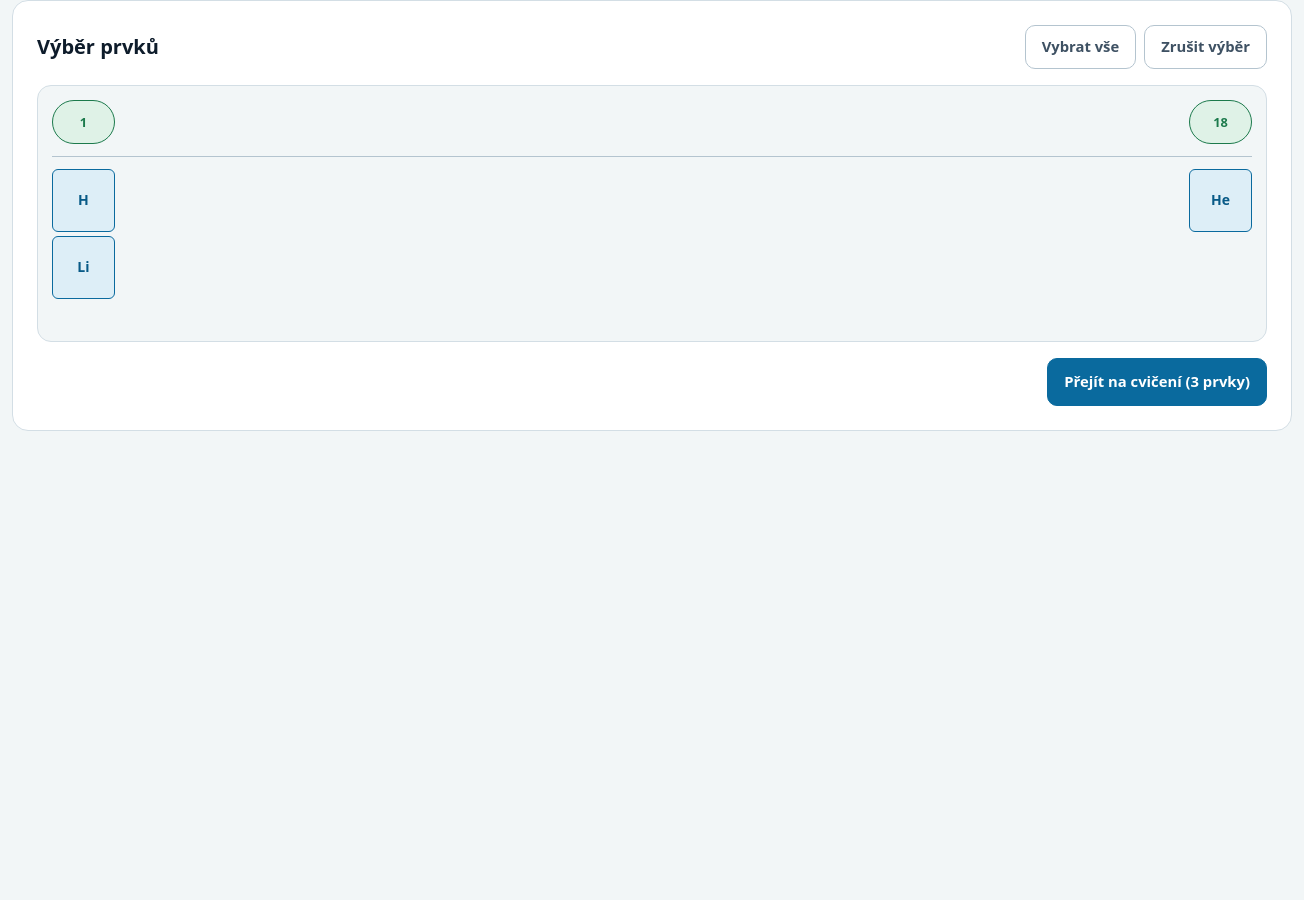
PeriodicTableNamePractice exercise › fills a correct symbol green, clears and refocuses the input, and moves on
Click the button "Přejít na cvičení (3 prvky)" at (1157, 382), box [1047, 358, 1267, 406]
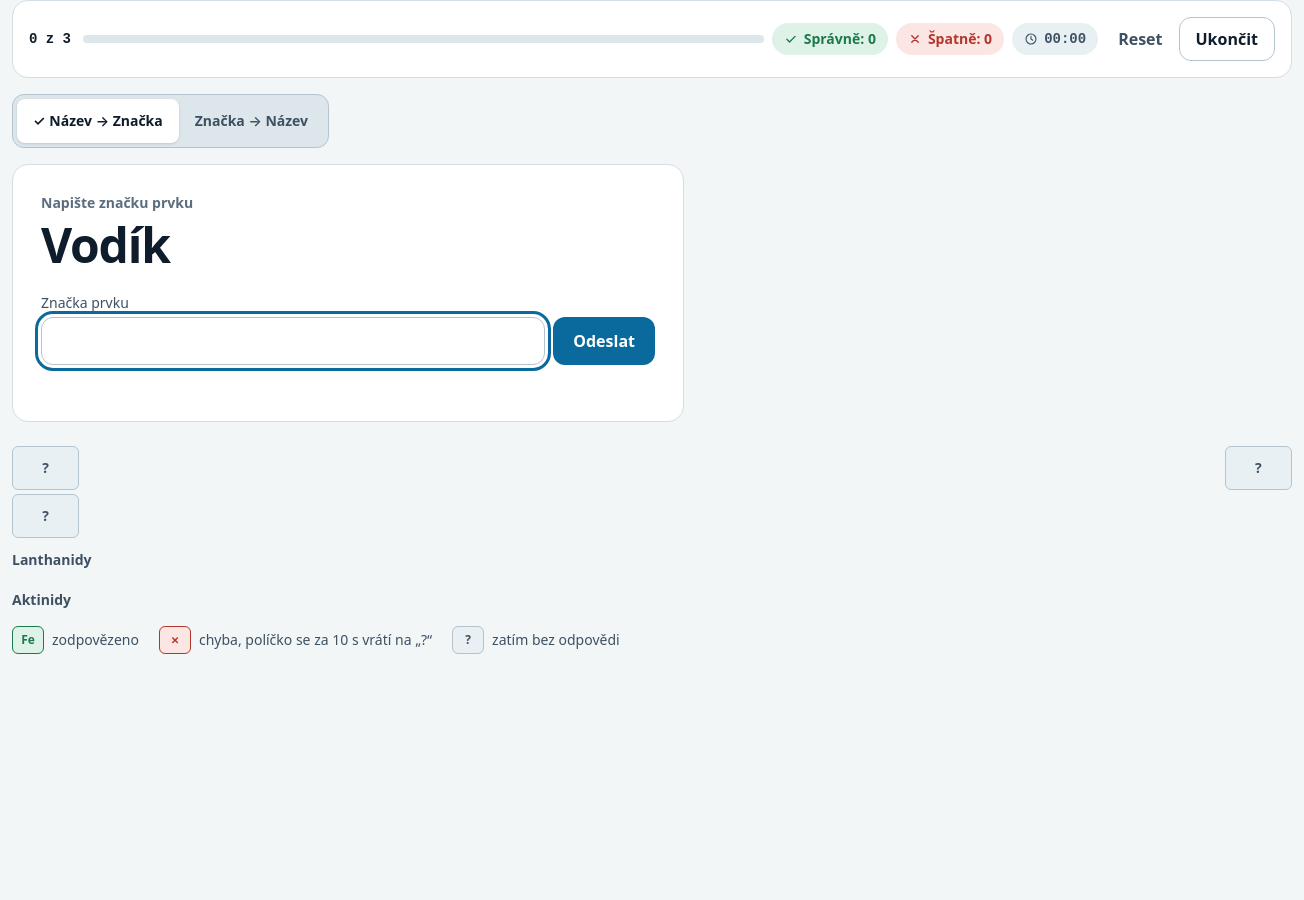
Expected: the text "Kategorie:" is not shown
Type " H " into the field at (293, 341), box [41, 317, 545, 365]
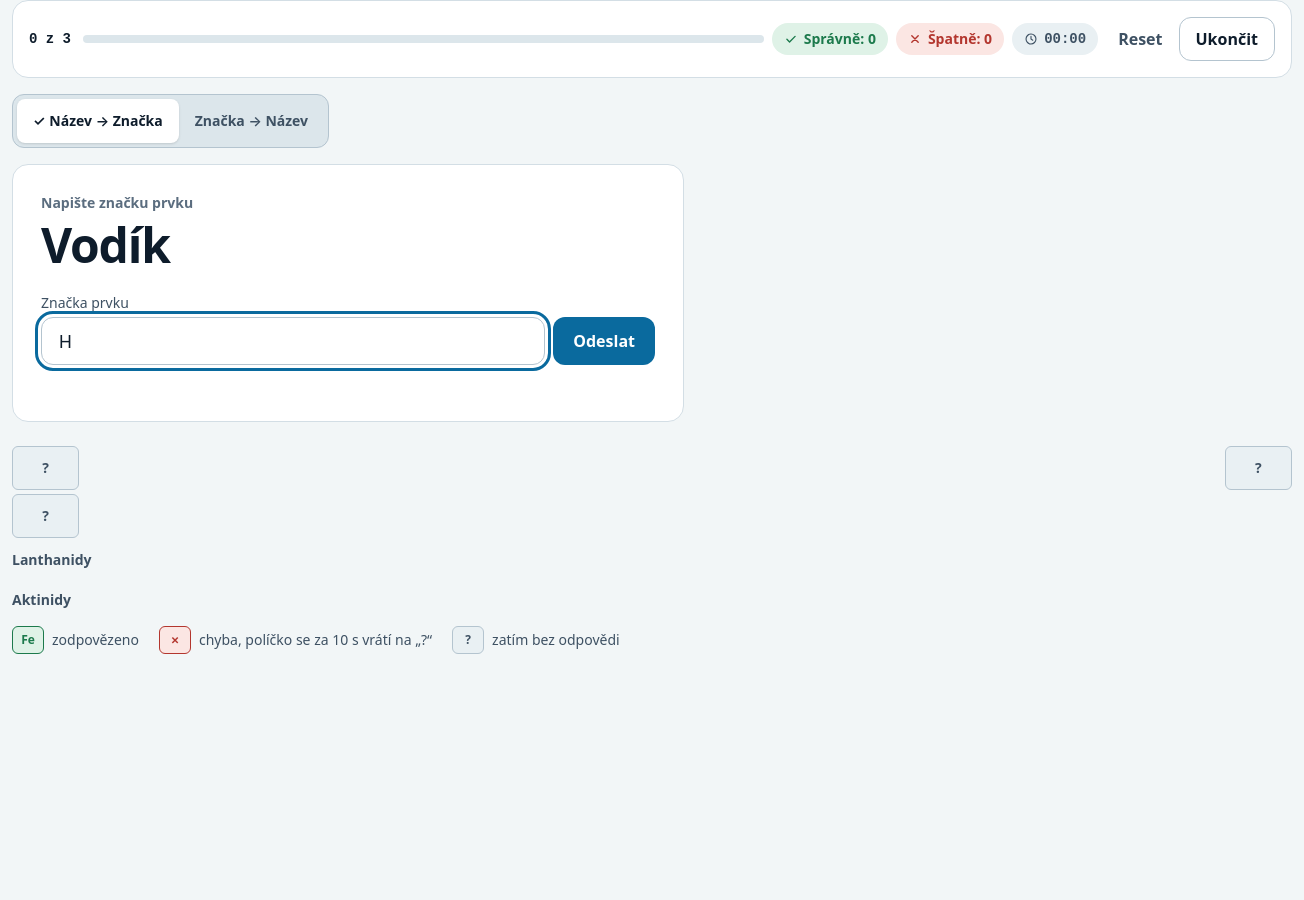
Submit the form, box [41, 293, 655, 365]
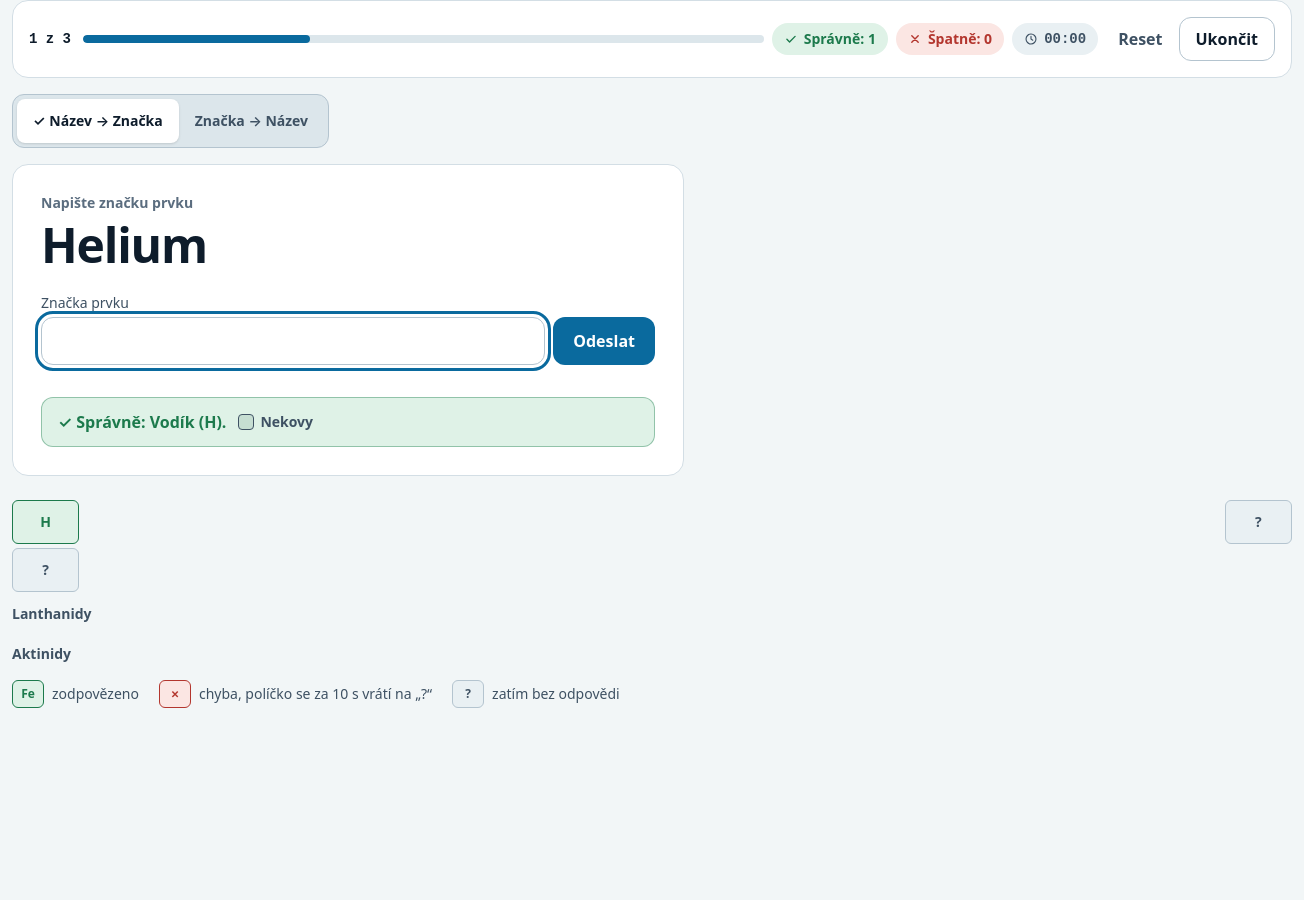
Now the button named "Perioda 1, skupina 1: H, vyřešeno" reads "H", box [12, 500, 79, 544]
Now the text "Správně: 1" is shown, box [804, 29, 876, 49]
Now the field is empty, box [41, 317, 545, 365]
